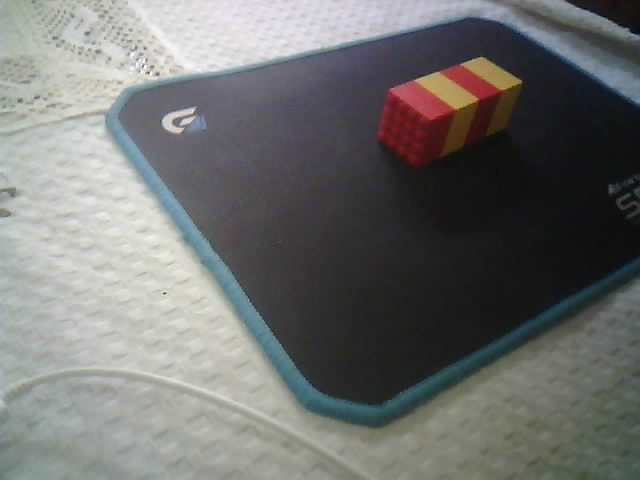lego: (376, 55, 524, 168)
